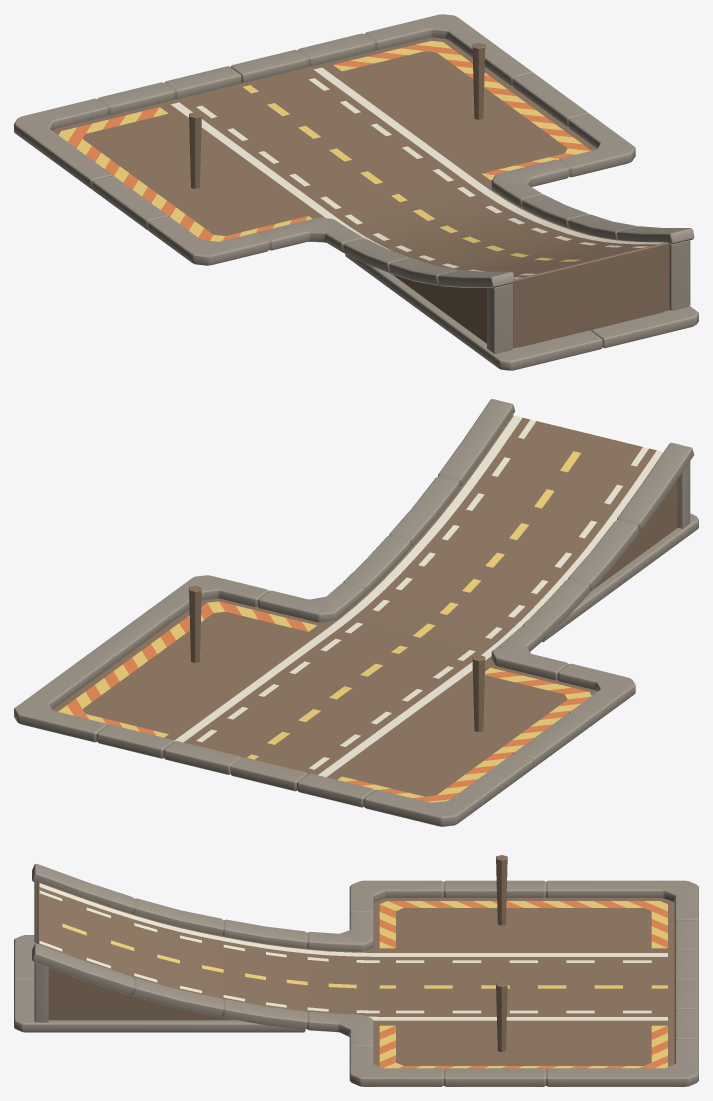
Rendered from Launcher1.fbx.
3 views of the same model, one above another, from view 1: azimuth 30°, elevation 25°; view 2: azimuth 150°, elevation 25°; view 3: azimuth 270°, elevation 25° (orthographic). The views are drawn at different scales.
Parts seen in each view (by area): view 1: Launcher1; view 2: Launcher1; view 3: Launcher1.
Boxes of the visible parts, x1,y1,x2,y2 form: Launcher1: (14, 14, 698, 370); Launcher1: (14, 399, 698, 826); Launcher1: (14, 855, 698, 1086).
Size of the model in its own units: 60 by 11.47 by 87.74.
Materials: 1 (1 with a texture image).
